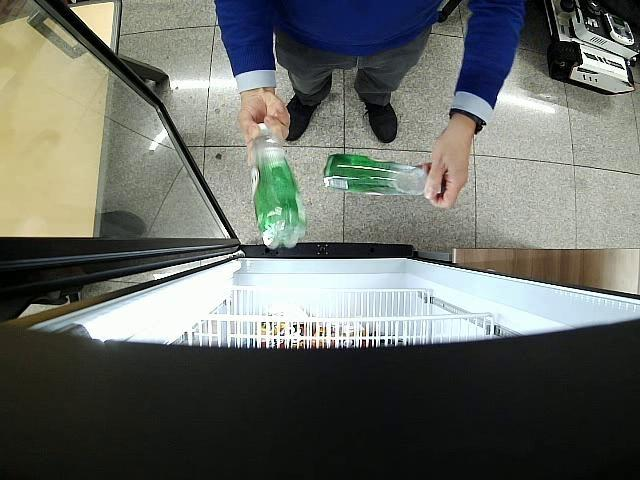18_trevi: (250, 125, 306, 248), (323, 152, 441, 194)
